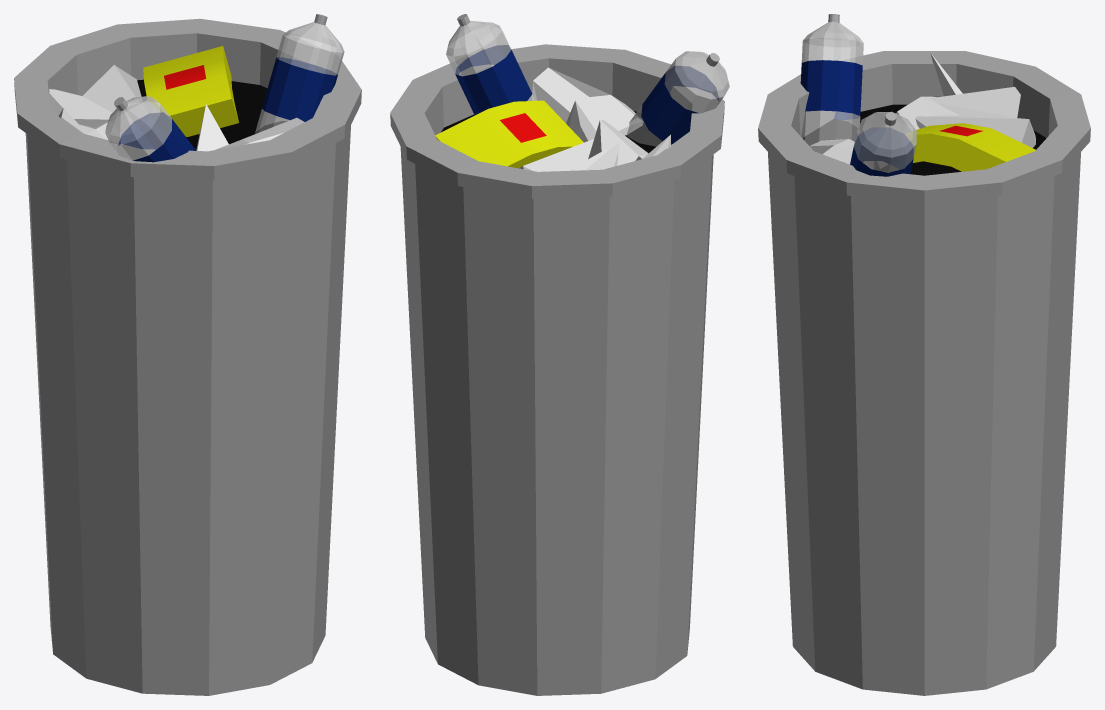
File: Trash_can 1.fbx
The picture shows the model from 3 angles, left to right: view 1: azimuth 30°, elevation 25°; view 2: azimuth 150°, elevation 25°; view 3: azimuth 270°, elevation 25°; orthographic projection. The views are drawn at different scales.
Parts seen in each view (by area): view 1: pCylinder19; view 2: pCylinder19; view 3: pCylinder19.
Boxes of the visible parts, x1,y1,x2,y2 form: pCylinder19: (14,14,361,695); pCylinder19: (390,14,729,695); pCylinder19: (758,14,1090,695).
Bounding box in the file's own units: 87.92 × 170 × 88.57.
